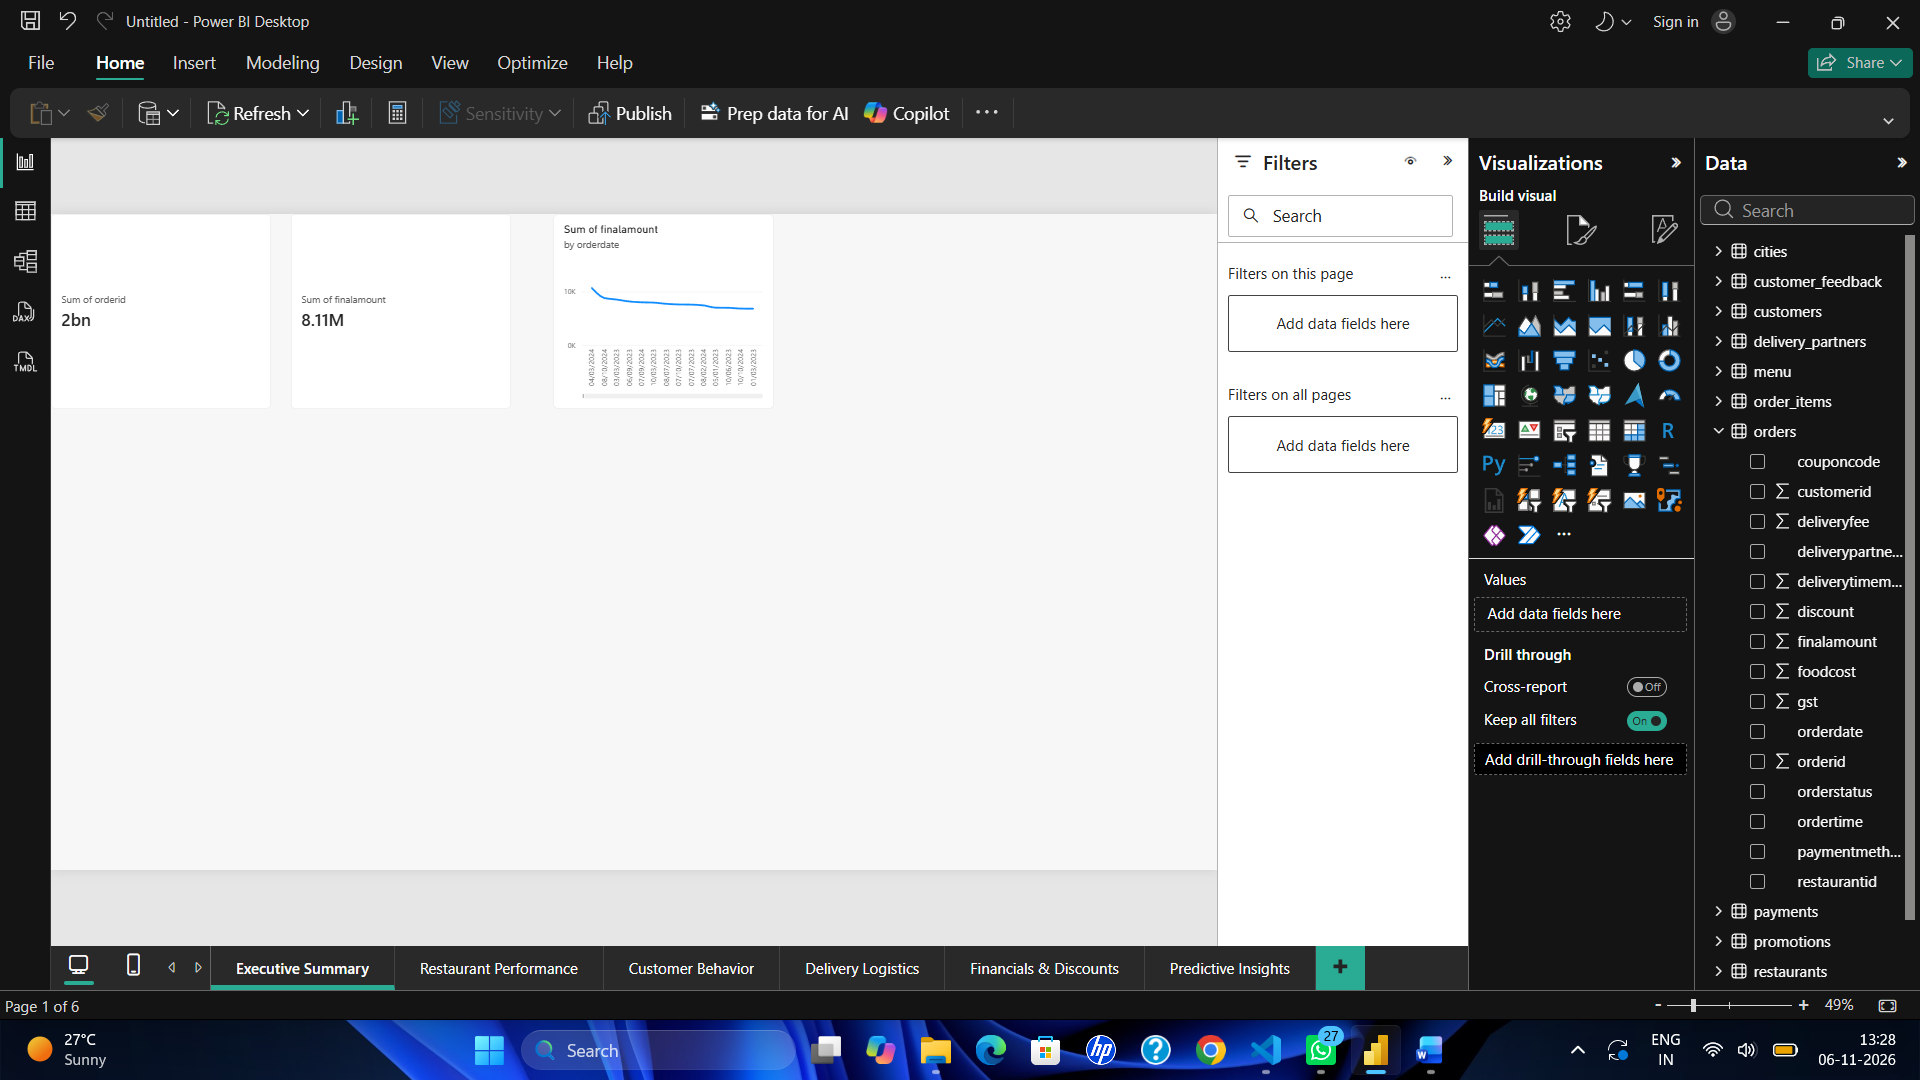

The page's visual inventory and layout, read from the dashboard file:
{"tool":"powerbi","page":{"name":"Executive Summary","canvas":[1920,1080],"ordinal":0},"visuals":[{"type":"cardVisual","fields":{"Data":["Sum(orders.orderid)"]},"box":[0,0,362.3,321.1],"z":0},{"type":"cardVisual","fields":{"Data":["Sum(orders.finalamount)"]},"box":[395.2,0,362,321],"z":2},{"type":"lineChart","fields":{"Category":["orders.orderdate"],"Y":["Sum(orders.finalamount)"]},"box":[827.4,0,362,321],"z":3}]}

Visuals, with their boxes on the page's 1920x1080 design canvas (x1, y1, x2, y2). These are canvas units, not pixel positions in the 1920x1080 screenshot, which may show the page scaled, cropped or inside an application window:
cardVisual - Sum(orders.orderid): (0, 0, 362, 321)
cardVisual - Sum(orders.finalamount): (395, 0, 757, 321)
lineChart - orders.orderdate x Sum(orders.finalamount): (827, 0, 1189, 321)
